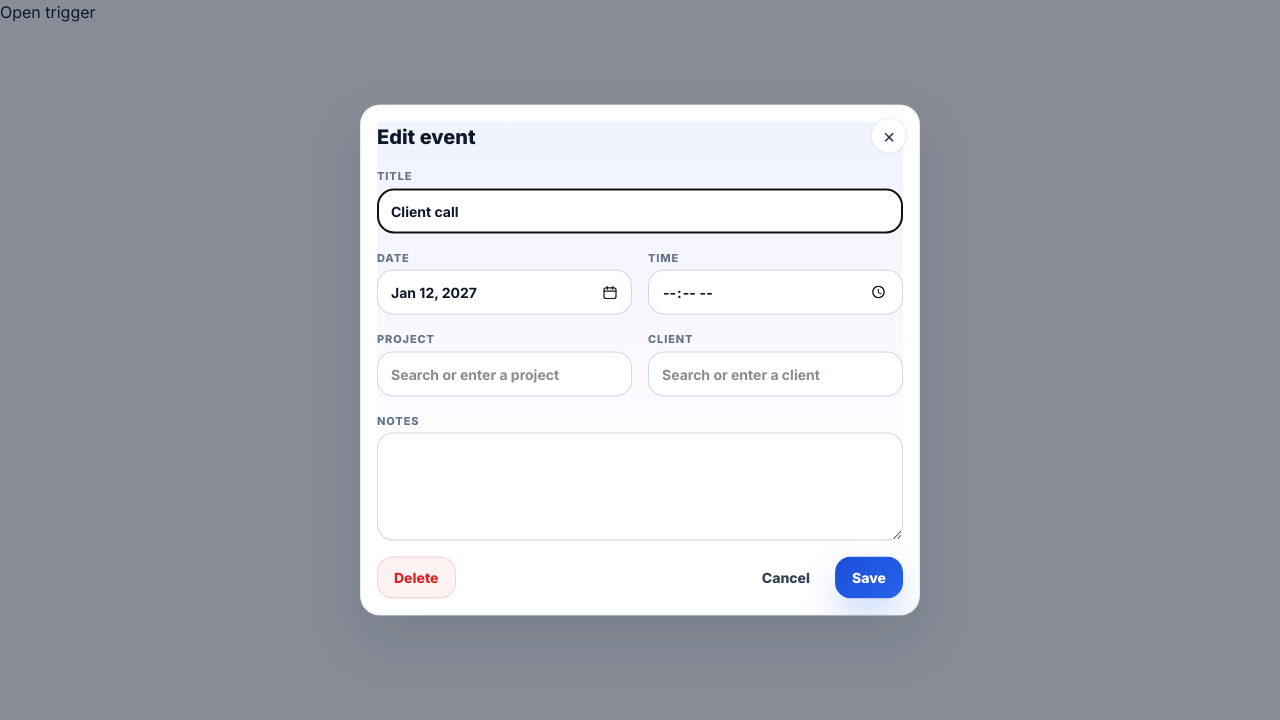
Test: CalendarDayDialog — dismissal › steps back from delete confirmation on Escape instead of closing
Click the button "Delete": {"x": 416, "y": 578} [377,556,456,598]
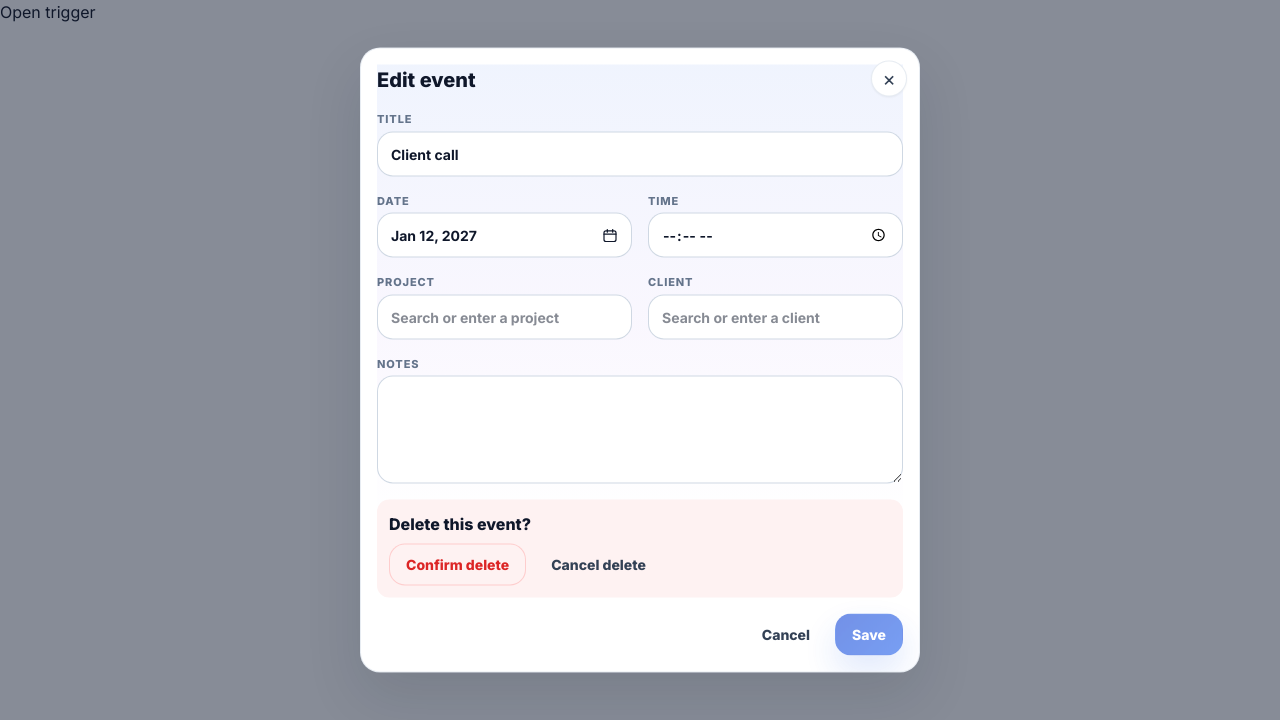
Now the text "Delete this event?" is shown, box [389,514,531,534]
Press Escape
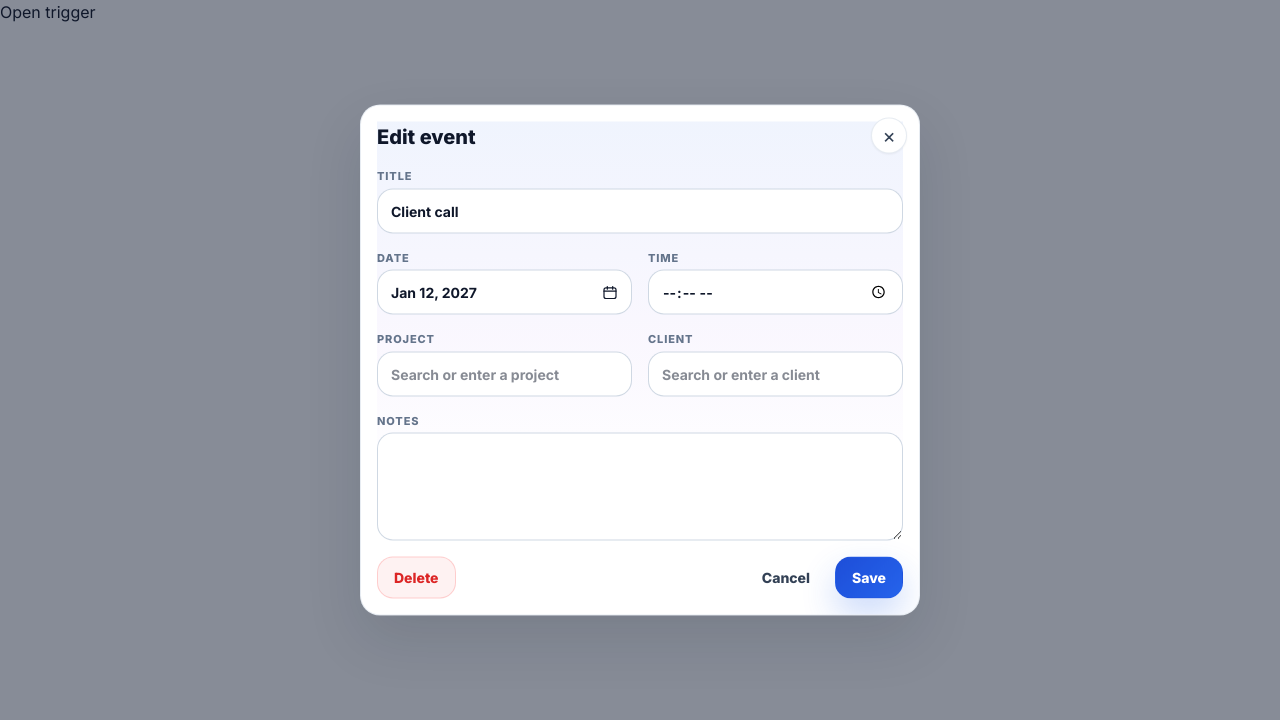
Expected: the dialog "Edit event" is shown, [360,104,920,616]
Now the text "Delete this event?" is gone
